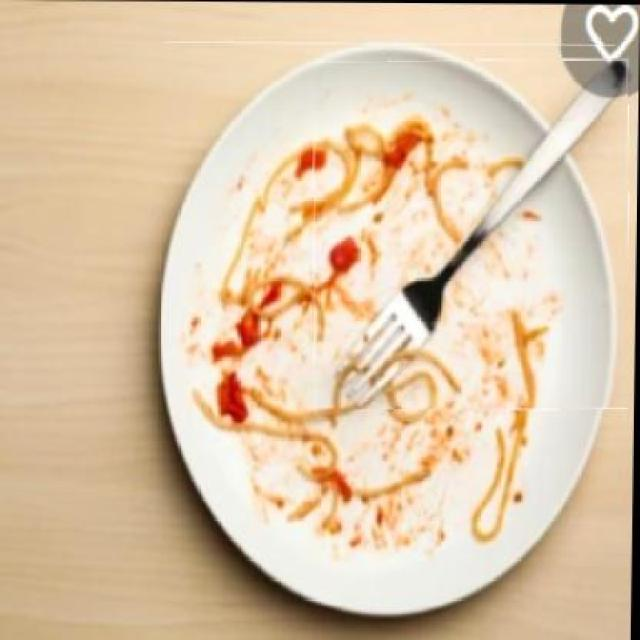Plate: (158, 42, 618, 609)
